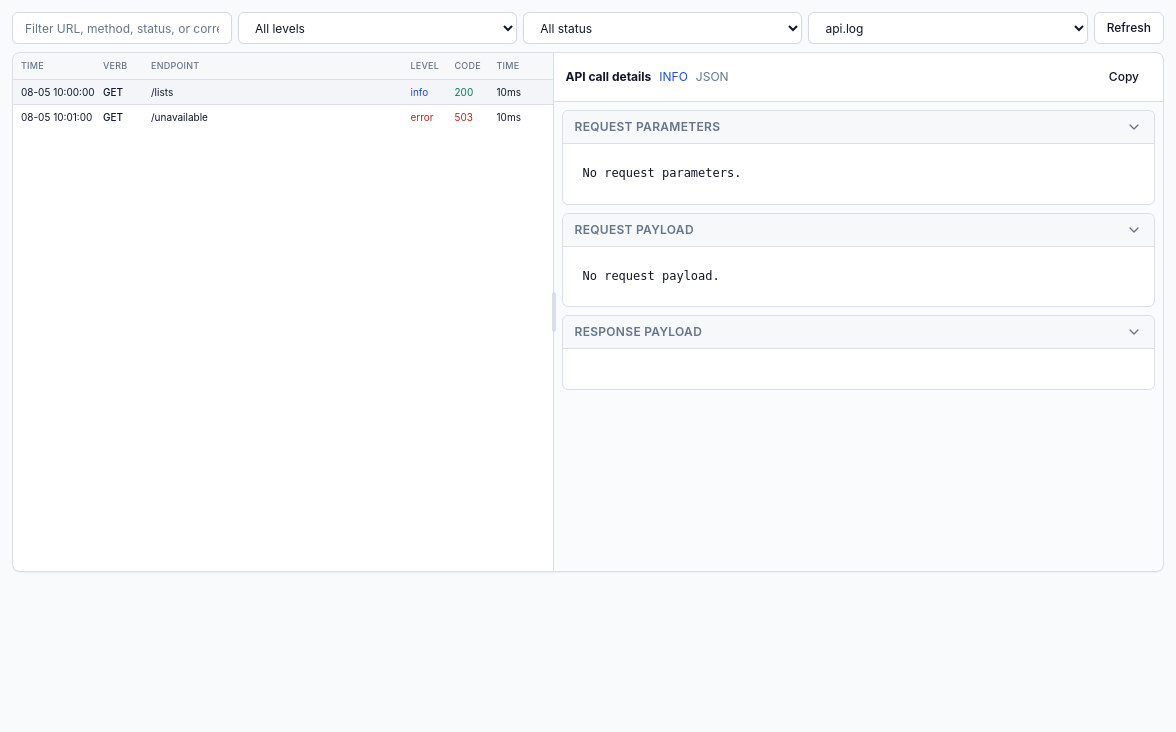
ApiLogsView › filters log rows by their persisted severity
The image size is (1176, 732).
expect the button "08-05 10:01:00 GET /unavailable error 503 10ms" is shown: met, box [13,105,552,130]
Select "error" in the dropdown named "Filter by level": {"x": 378, "y": 28} [238,12,517,44]
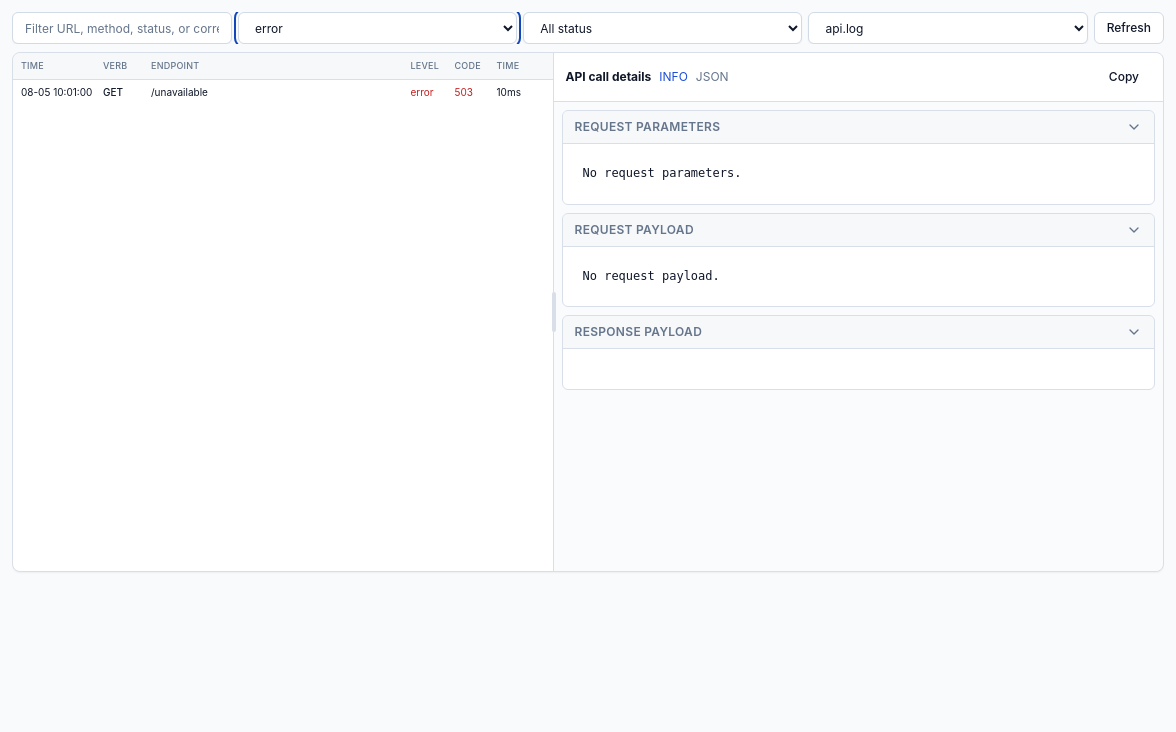
expect the button "08-05 10:01:00 GET /unavailable error 503 10ms" is shown: met, box [13,80,552,104]
expect the button "/lists" is gone: met
